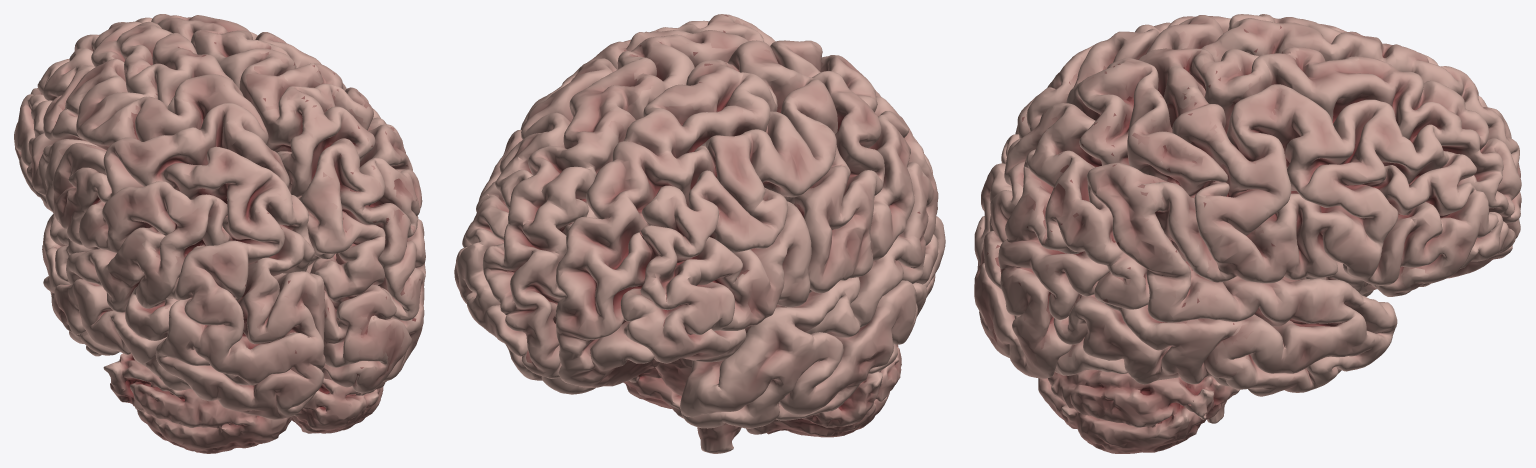
Rendered from brain-hq.glb.
The picture shows the model from 3 angles, left to right: view 1: azimuth 30°, elevation 25°; view 2: azimuth 150°, elevation 25°; view 3: azimuth 270°, elevation 25°; orthographic projection. The views are drawn at different scales.
Parts seen in each view (by area): view 1: Object_2; view 2: Object_2; view 3: Object_2.
Boxes of the visible parts, x1,y1,x2,y2 form: Object_2: [14, 14, 425, 453]; Object_2: [454, 14, 945, 453]; Object_2: [974, 14, 1521, 453].
Bounding box in the file's own units: 134 × 142 × 182.
